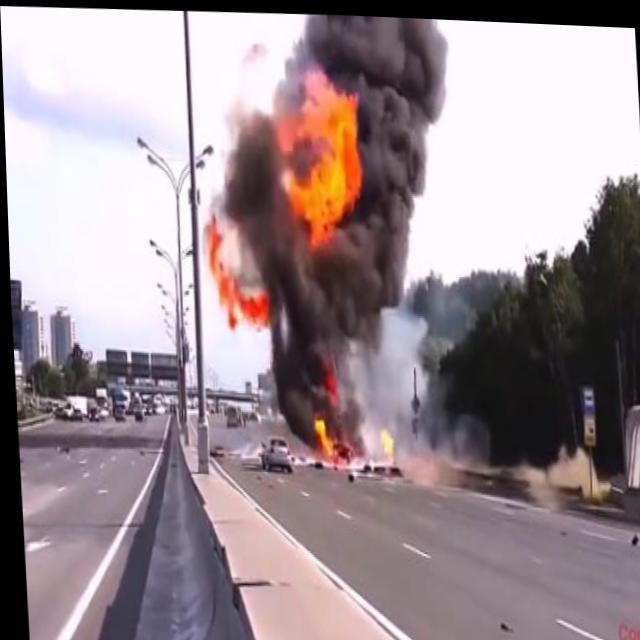fire: (269, 52, 372, 256), (199, 206, 275, 333), (308, 406, 345, 469), (375, 419, 397, 466)
